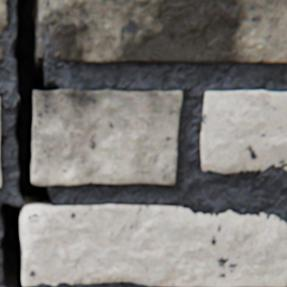brick: (20, 205, 286, 286), (36, 0, 286, 64), (31, 90, 181, 186), (200, 91, 286, 174), (0, 0, 7, 35), (0, 47, 6, 59), (0, 99, 1, 143), (0, 161, 1, 187)
crack: (0, 0, 56, 286)
